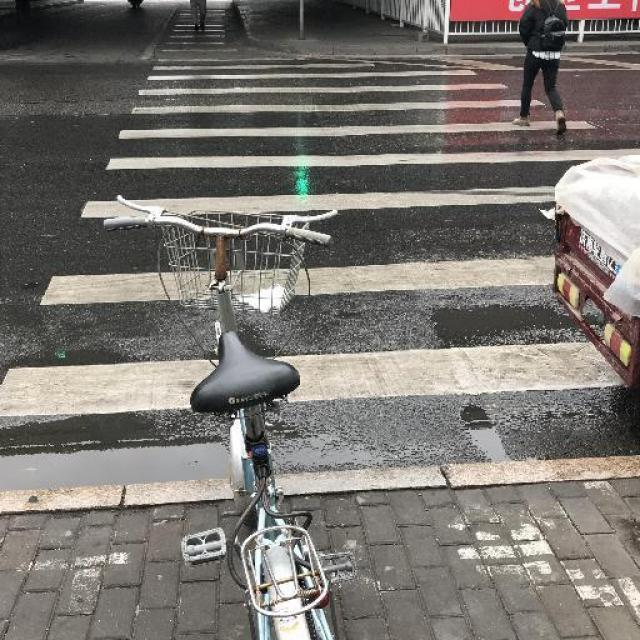crosswalk: (0, 57, 640, 419)
